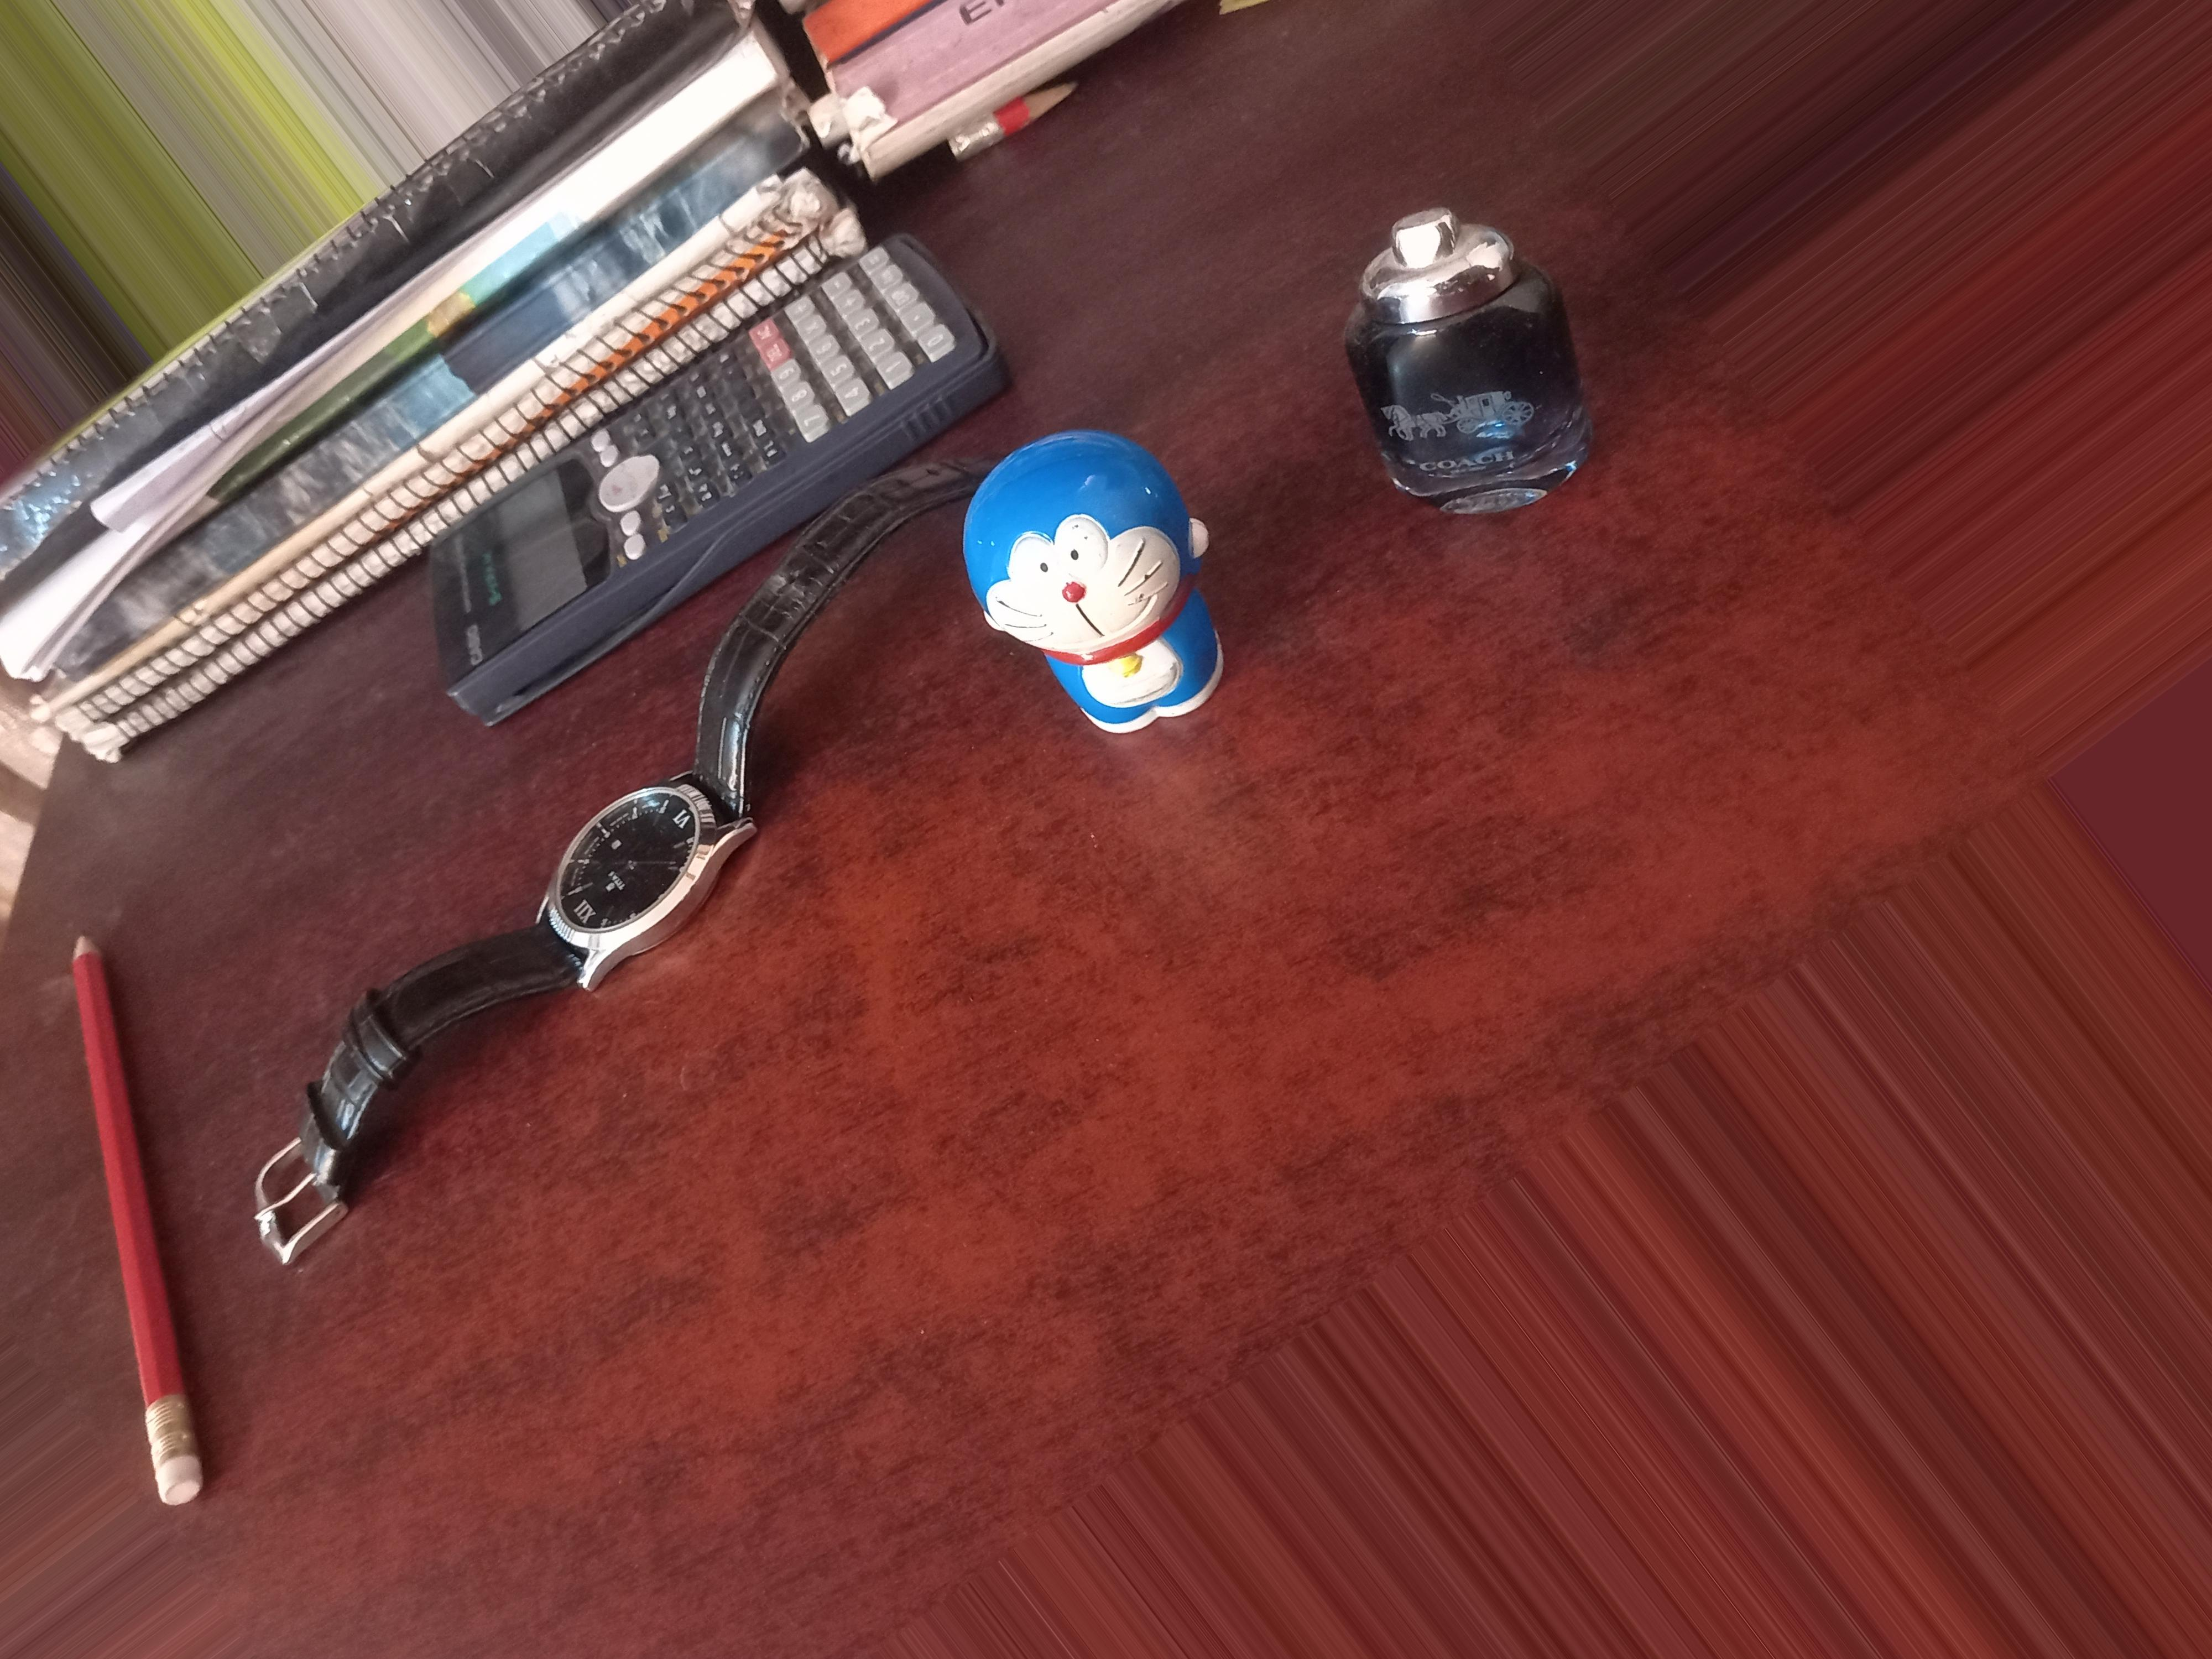calculator: (634, 270, 941, 453)
doraemon: (996, 488, 1247, 716)
pencil: (89, 936, 232, 1518)
perfume: (1372, 234, 1618, 516)
watch: (326, 748, 833, 1244)
